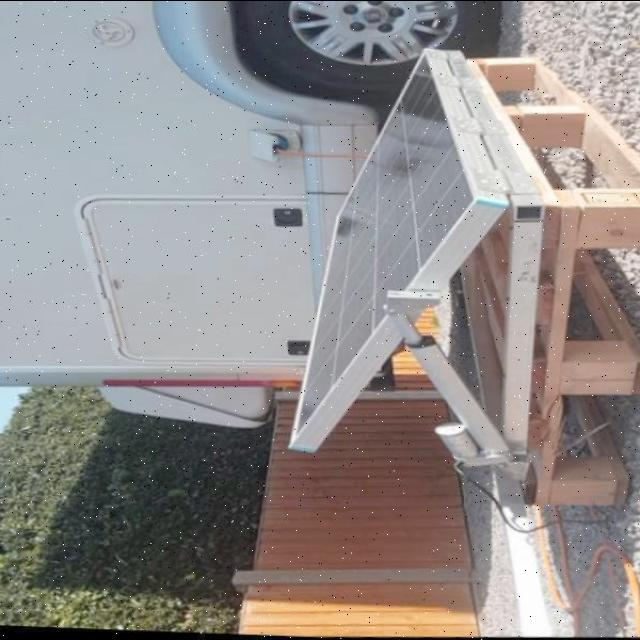Normal Solar Panel: (279, 43, 519, 460)
